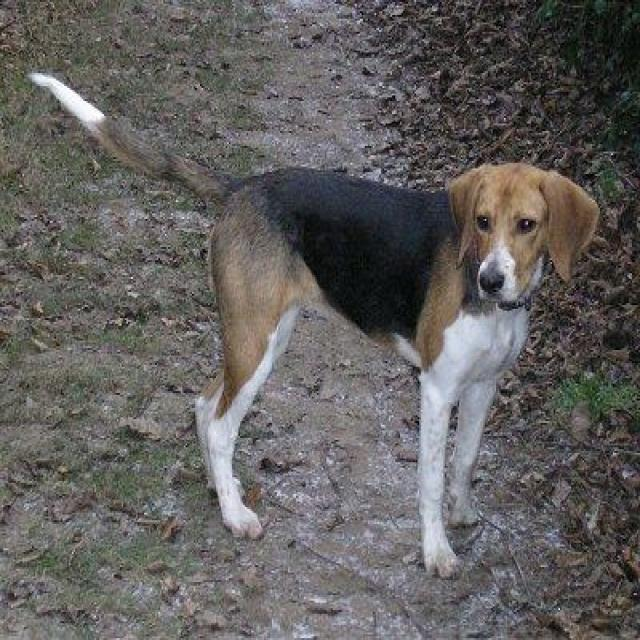beagle: (26, 60, 596, 578)
